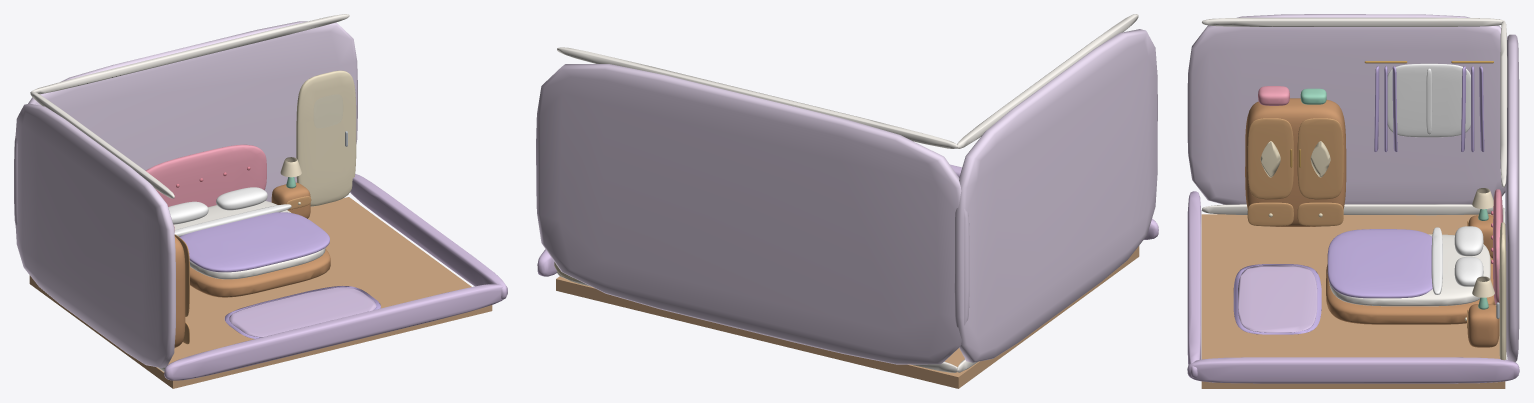
Rendered from casa_cuarto.glb.
The picture shows the model from 3 angles, left to right: view 1: azimuth 30°, elevation 25°; view 2: azimuth 150°, elevation 25°; view 3: azimuth 270°, elevation 25°; orthographic projection. The views are drawn at different scales.
Parts seen in each view (by area): view 1: pared izquierda.003, pared fondo.003, piso.003, muro bajo frente.003, puerta.004, cobija, cabecera, tapete.003, muro bajo derecha.003, cornisa fondo.003, base cama, colchón (+7 smaller); view 2: pared fondo.003, pared izquierda.003, piso.003, cornisa fondo.003, cornisa izquierda.003; view 3: pared izquierda.003, piso.003, muro bajo derecha.003, cobija, marco.002, tapete.003, pared fondo.003, clóset, puerta clóset, puerta clóset.001, base cama, cornisa izquierda.003 (+27 smaller).
Boxes of the visible parts, bbox=[...] form: pared izquierda.003: bbox=[15, 103, 175, 368]; pared fondo.003: bbox=[14, 21, 357, 225]; piso.003: bbox=[29, 197, 492, 388]; muro bajo frente.003: bbox=[164, 283, 507, 380]; puerta.004: bbox=[296, 70, 356, 206]; cobija: bbox=[179, 212, 329, 272]; cabecera: bbox=[145, 144, 266, 206]; tapete.003: bbox=[229, 287, 376, 337]; muro bajo derecha.003: bbox=[350, 174, 506, 299]; cornisa fondo.003: bbox=[30, 14, 349, 94]; base cama: bbox=[190, 249, 330, 297]; colchón: bbox=[174, 201, 325, 279]; pared fondo.003: bbox=[536, 64, 969, 364]; pared izquierda.003: bbox=[954, 29, 1157, 362]; piso.003: bbox=[556, 246, 1139, 388]; cornisa fondo.003: bbox=[557, 47, 958, 148]; cornisa izquierda.003: bbox=[956, 14, 1138, 148]; pared izquierda.003: bbox=[1187, 14, 1507, 204]; piso.003: bbox=[1201, 214, 1505, 388]; muro bajo derecha.003: bbox=[1187, 357, 1519, 383]; cobija: bbox=[1327, 229, 1432, 298]; marco.002: bbox=[1387, 63, 1470, 137]; tapete.003: bbox=[1238, 265, 1317, 332]; pared fondo.003: bbox=[1505, 34, 1519, 362]; clóset: bbox=[1245, 98, 1346, 226]; puerta clóset: bbox=[1247, 118, 1293, 199]; puerta clóset.001: bbox=[1297, 118, 1343, 199]; base cama: bbox=[1326, 256, 1495, 324]; cornisa izquierda.003: bbox=[1202, 17, 1504, 26].
Bounding box in the file's own units: 5.8 × 3.15 × 4.6.
